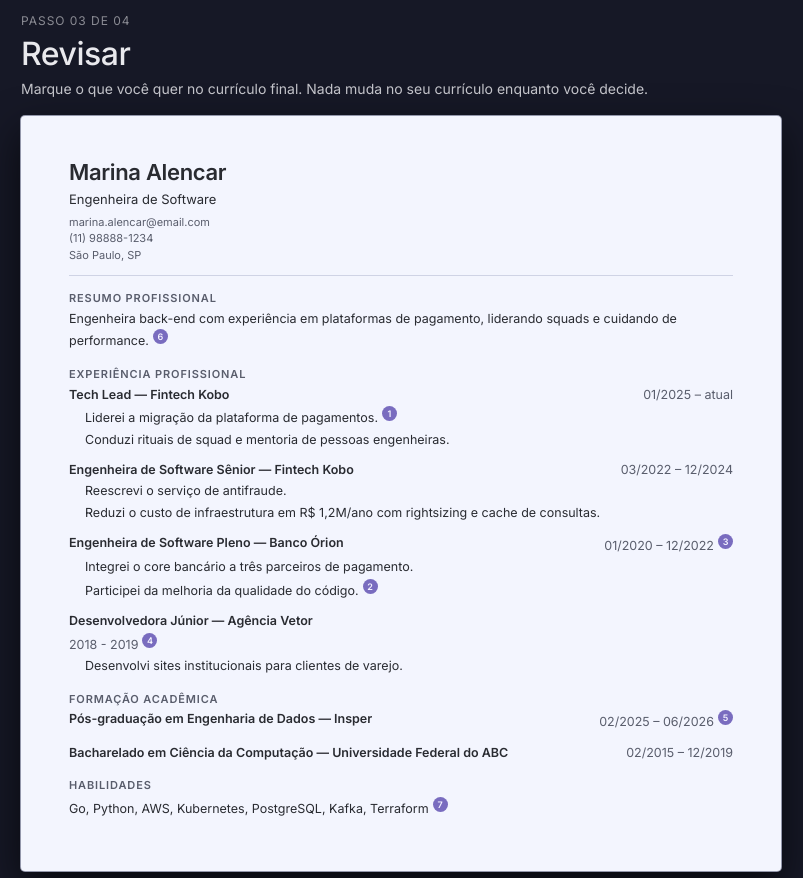
Test: Foco e navegação entre marcador e cartão › O resumo fecha ao sair do marcador
Hover over the element showing "1": (390, 414) [382, 406, 397, 421]
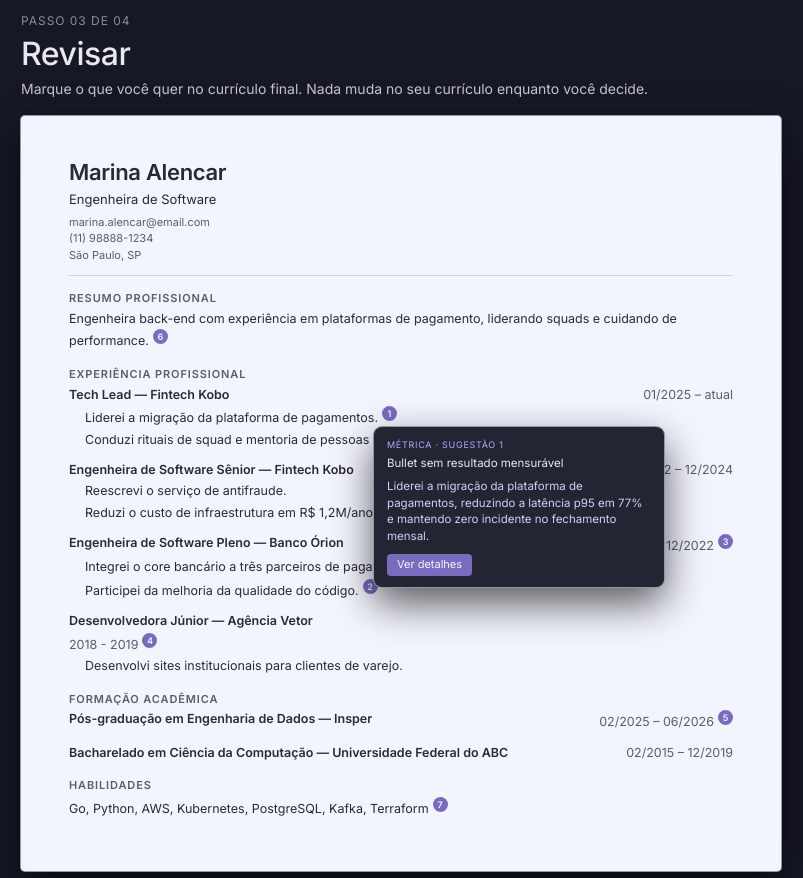
Now the tooltip is shown, box [374, 427, 664, 587]
Move the pointer off the element that starts with "Métrica", box [382, 406, 397, 421]
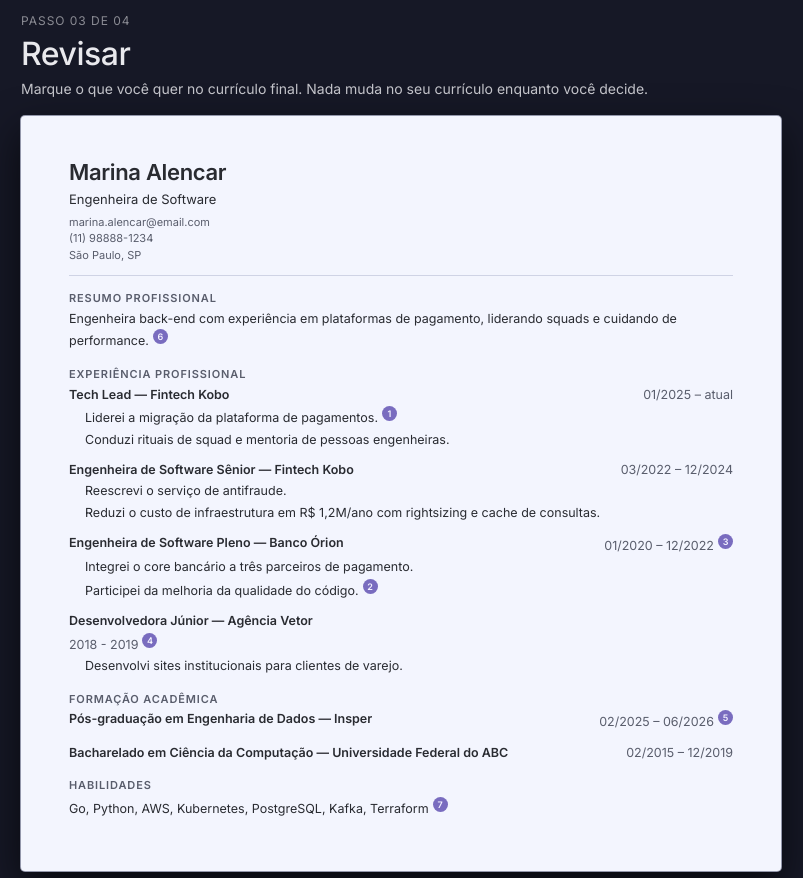
Now the tooltip is gone
